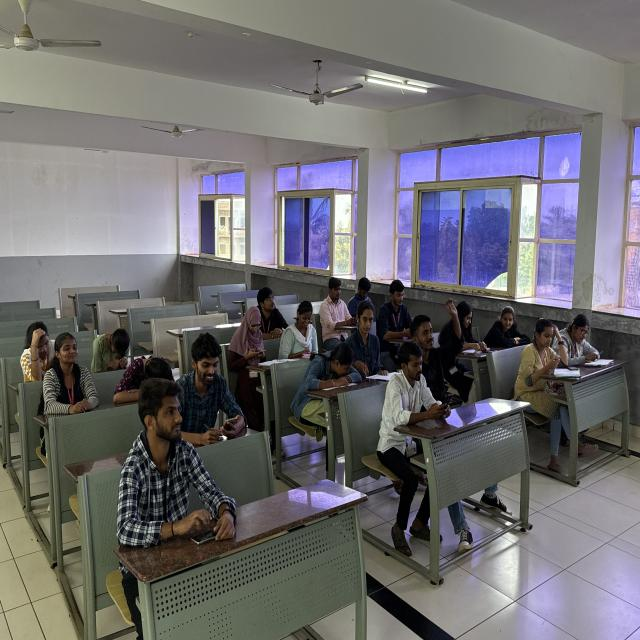Hand Rising: (408, 268, 468, 403), (376, 283, 412, 372)
Sleeping: (294, 324, 365, 411), (484, 305, 530, 351), (90, 327, 130, 374)
Using Phone: (116, 372, 234, 636), (378, 338, 440, 554), (162, 308, 256, 447), (227, 302, 274, 448), (278, 284, 332, 363)
Writing: (546, 315, 601, 455), (512, 342, 566, 422)
